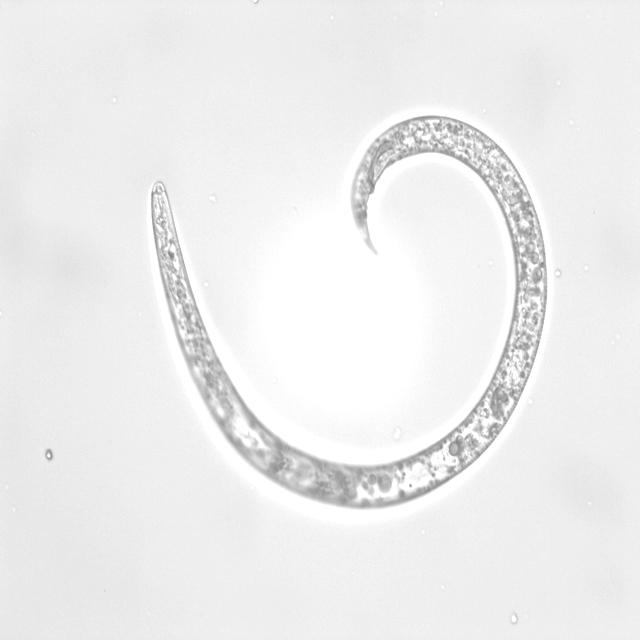Helicotylenchus: (138, 111, 558, 520)
